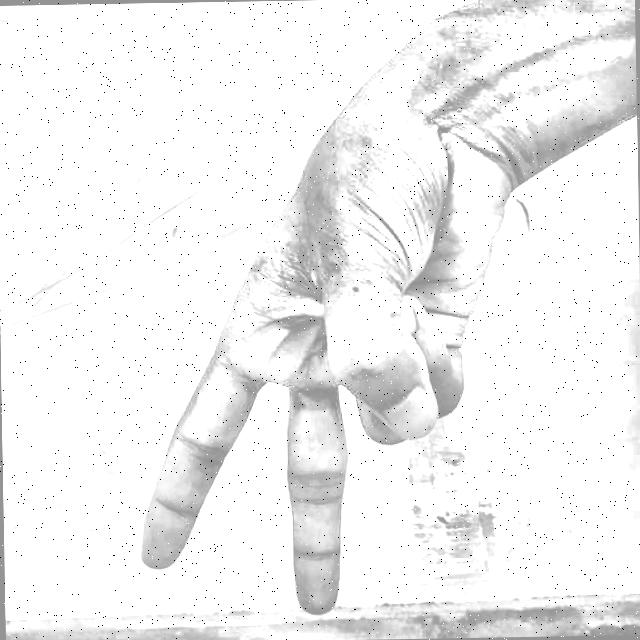Pa: (104, 72, 536, 626)
